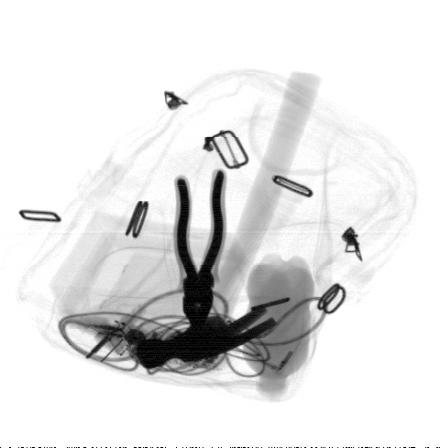Hammer: (136, 72, 324, 370)
Pliers: (176, 170, 226, 328)
